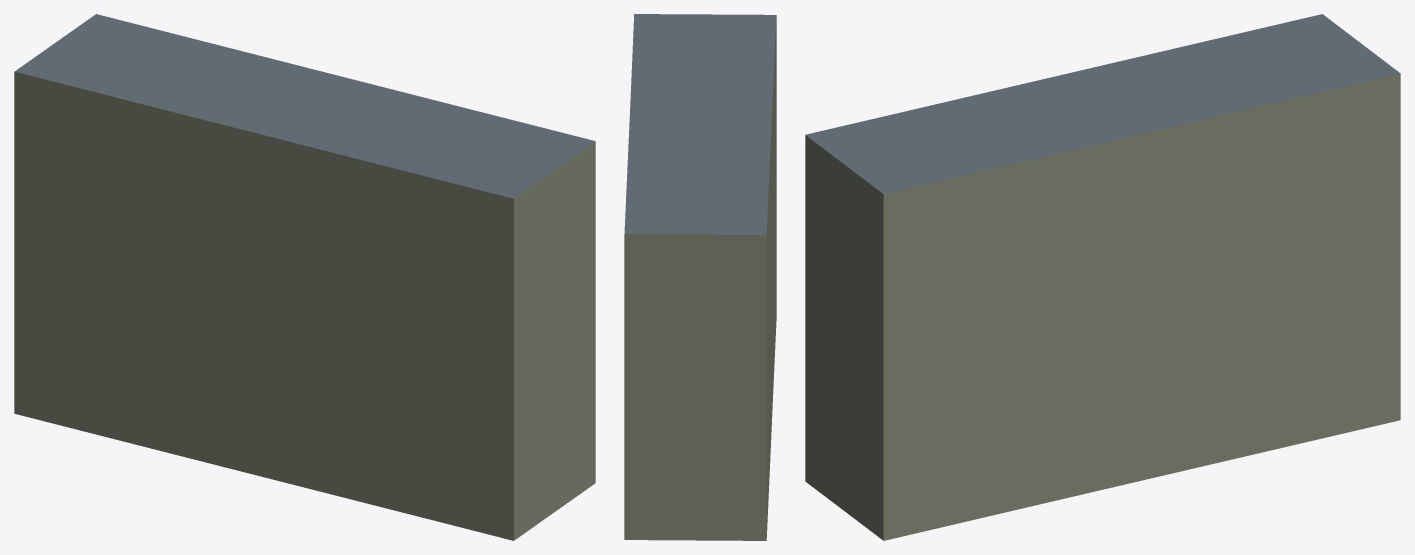
File: nyc-1034352-0.glb
3 views of the same model, side by side, from view 1: azimuth 30°, elevation 25°; view 2: azimuth 150°, elevation 25°; view 3: azimuth 270°, elevation 25° (orthographic). The views are drawn at different scales.
Visible parts, largest first — view 1: nyc-1034352-0; view 2: nyc-1034352-0; view 3: nyc-1034352-0.
Part boxes in pixels (box(x1,y1,x2,y2)): nyc-1034352-0: box(14, 14, 595, 540); nyc-1034352-0: box(624, 14, 776, 540); nyc-1034352-0: box(805, 14, 1400, 540).
Size of the model in its own units: 15.32 by 13.73 by 21.38.
